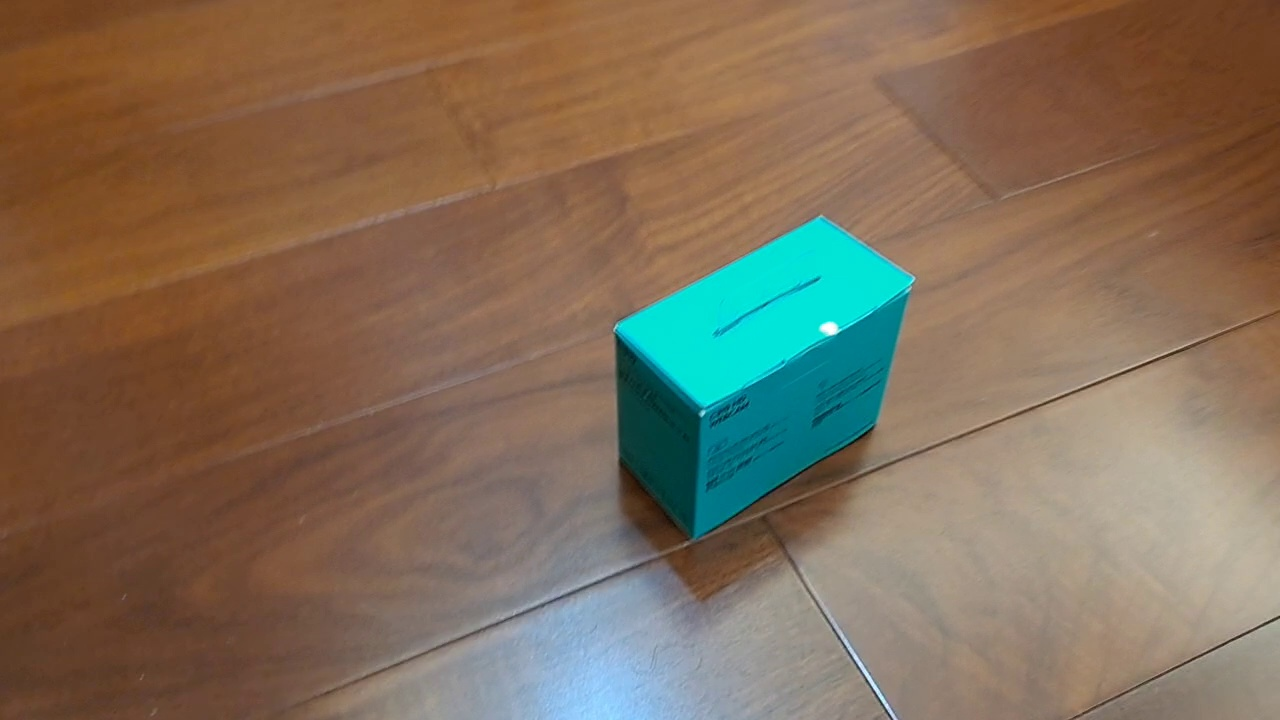webcam: (611, 213, 917, 544)
